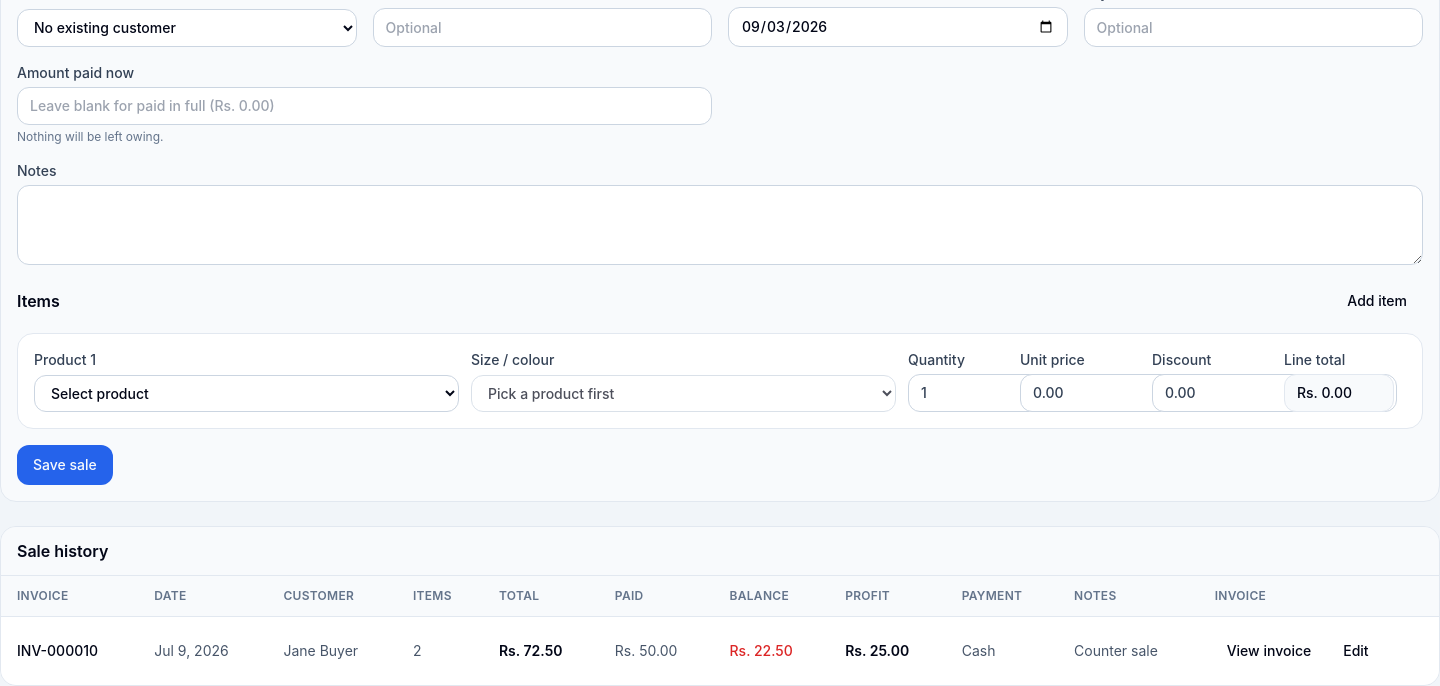
Test: SalesScreen › warns instead of saving when the edit password is missing
This screenshot has width=1440, height=686.
(page scrolled)
Expected: the text "INV-000010" is shown, [1,616,138,685]
What coordinates should you click on to do the following:
click the button "Edit"
I would click on:
 (1356, 651)
Its box is [1331,633,1381,669].
(page scrolled)
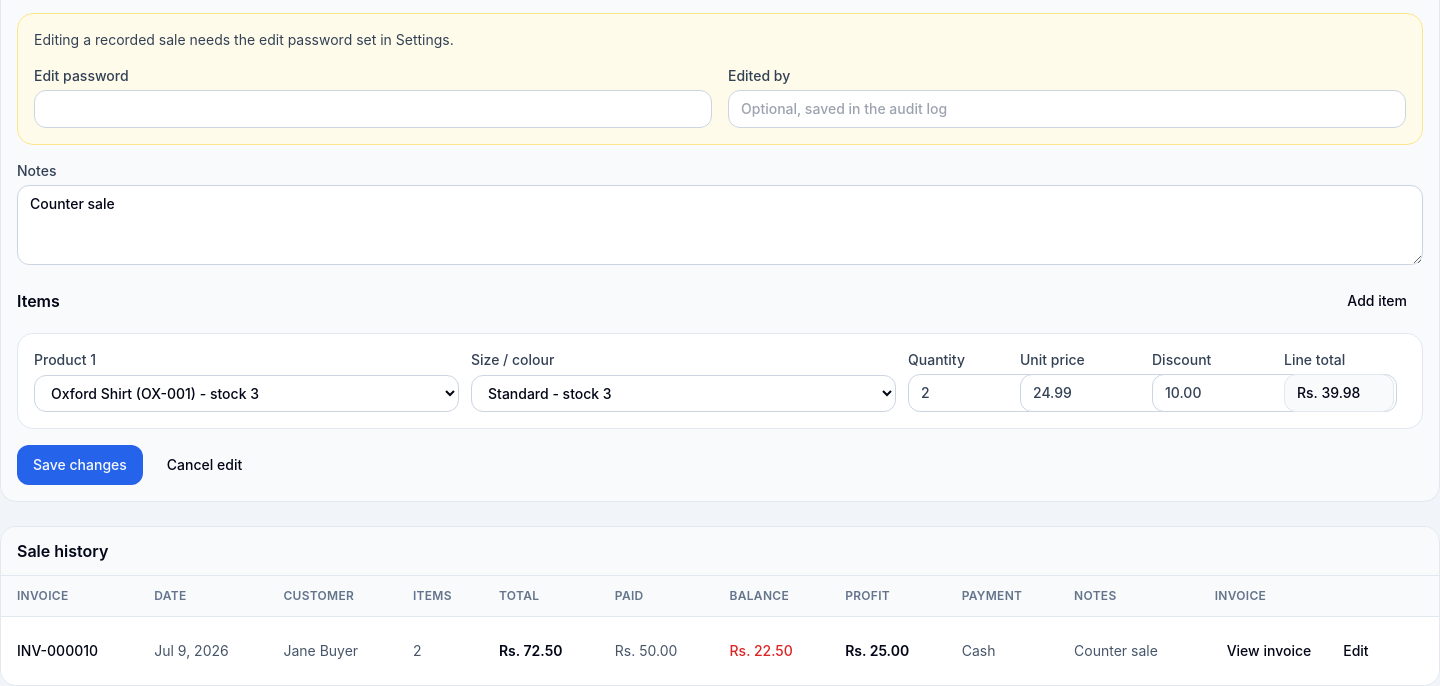
Now the password field labelled "Edit password" is shown, box [34,90,712,128]
What coordinates should you click on to do the following:
click the button "Save changes"
I would click on:
 (80, 465)
Its box is [17,445,143,485].
(page scrolled)
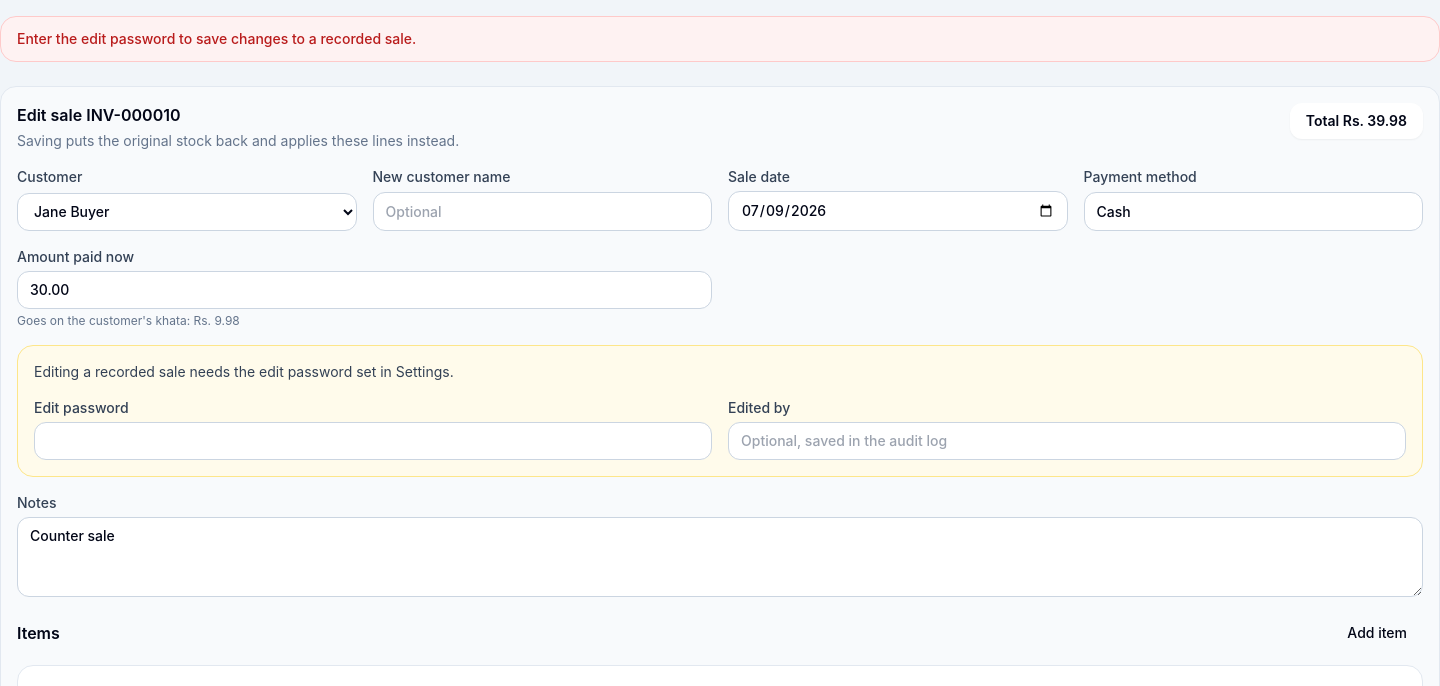
Now the message reads "Enter the edit password to save changes to a recorded sale.", box [17,30,416,47]
